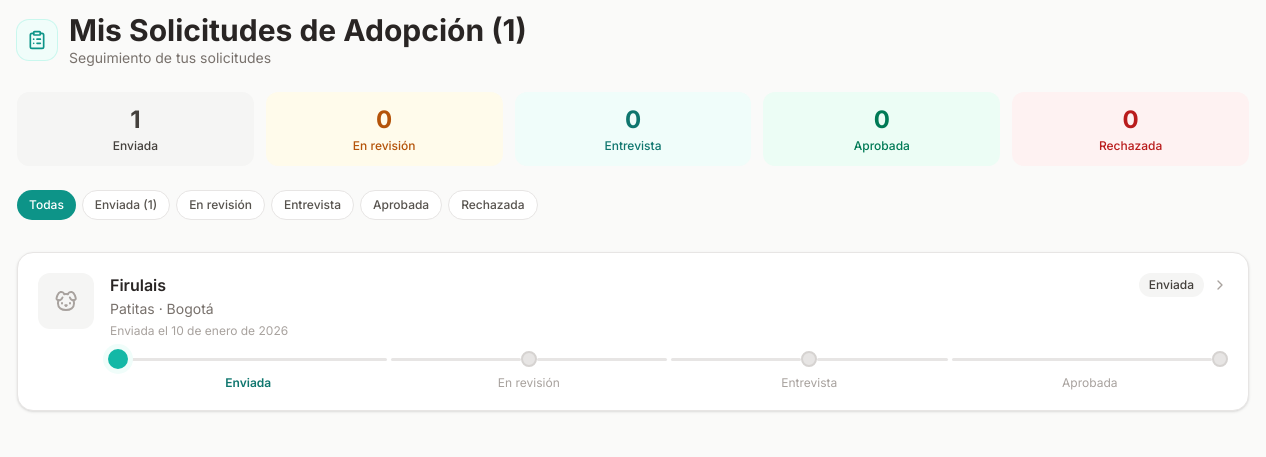
Test: MisSolicitudesPage › shows clear filter button when filter yields no results
What coordinates should you click on to do the following:
click the button "Aprobada"
I would click on:
 (401, 205)
Its box is [360,190,442,220].
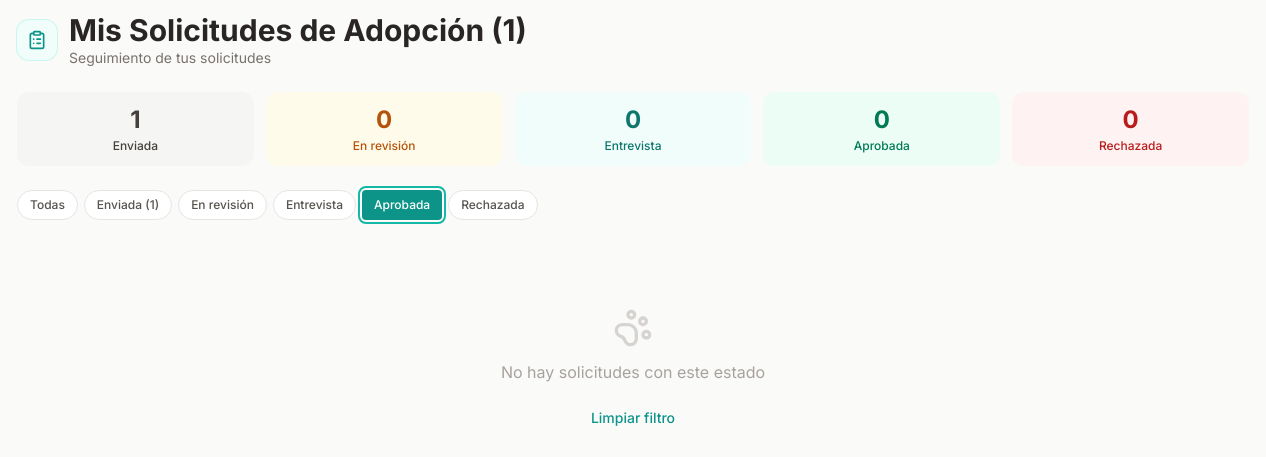
Expected: the text "No hay solicitudes con este estado" is shown, [501,362,765,382]
Expected: the button "Limpiar filtro" is shown, [591,396,675,440]
